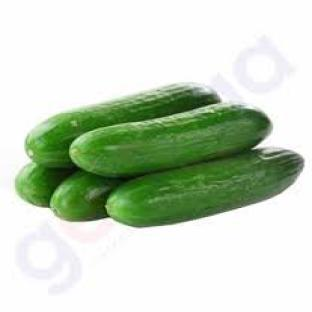Cucumber: (26, 84, 220, 168), (108, 148, 302, 227), (70, 103, 271, 177), (50, 171, 120, 220), (16, 164, 73, 206)
